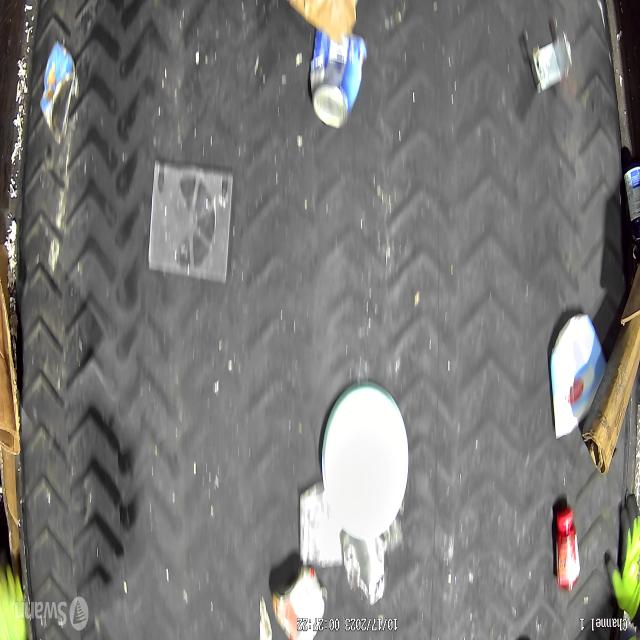can: (310, 30, 366, 130), (268, 562, 326, 636), (299, 478, 341, 570), (40, 40, 76, 144)
